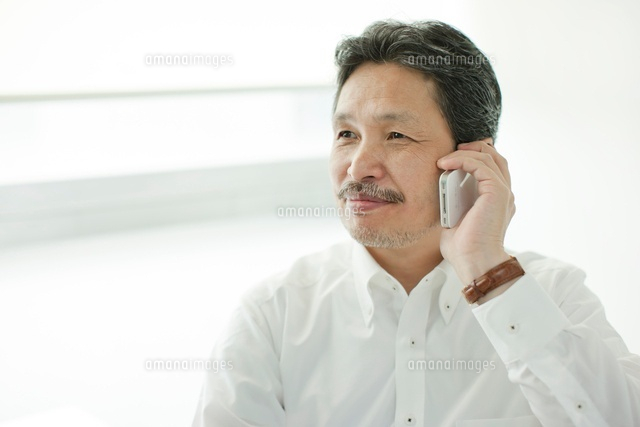phone: (434, 127, 506, 234)
talk: (323, 107, 519, 271)
